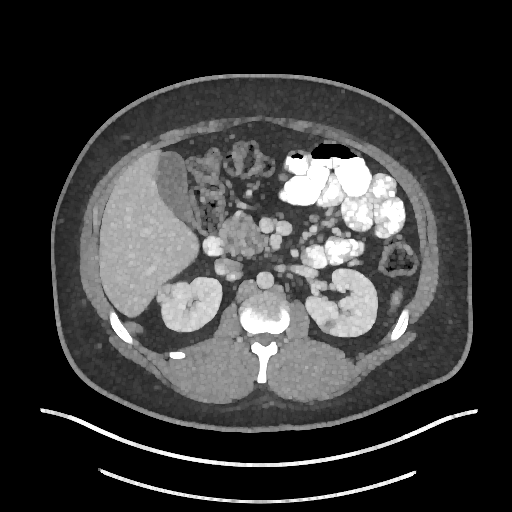Lesion: (320, 318, 343, 332)
